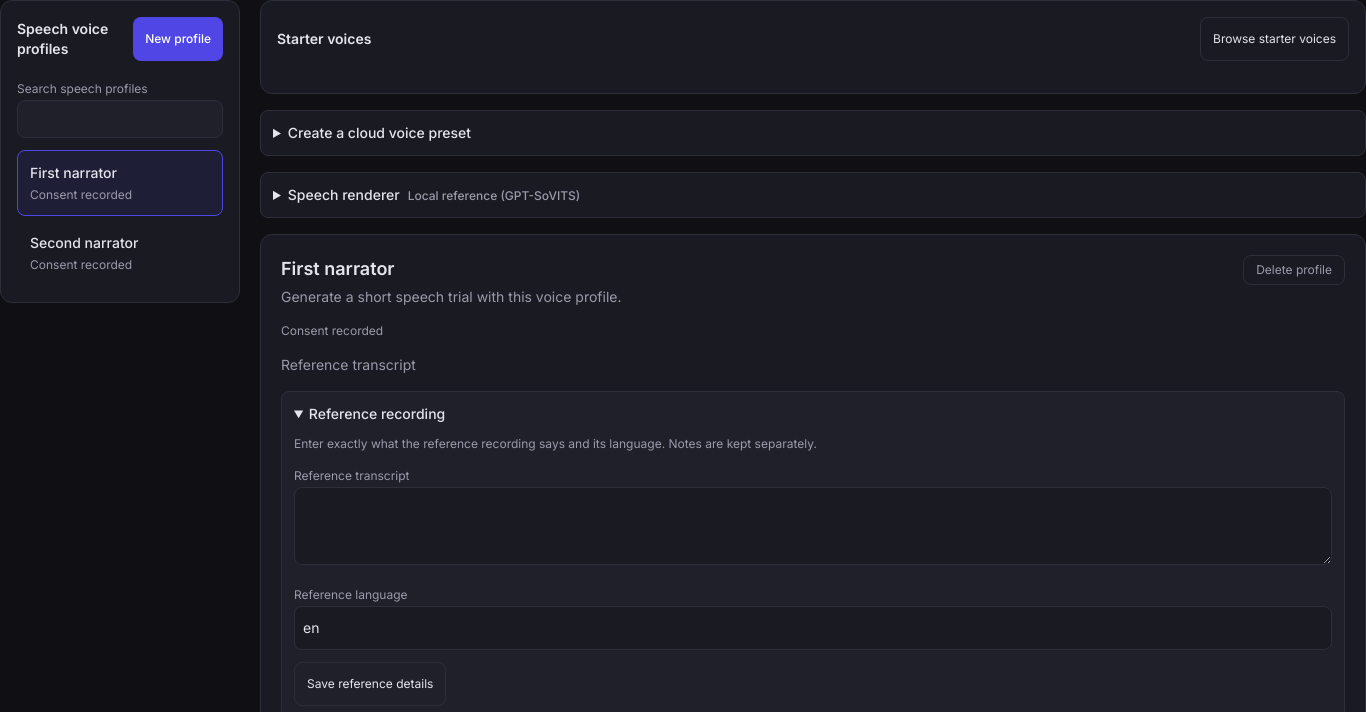
Scenario: preserves newer selection and speech text when an import finishes late
The image size is (1366, 712).
Click the button "Browse starter voices".
click(1275, 39)  # box [1200,17,1349,61]
(page scrolled)
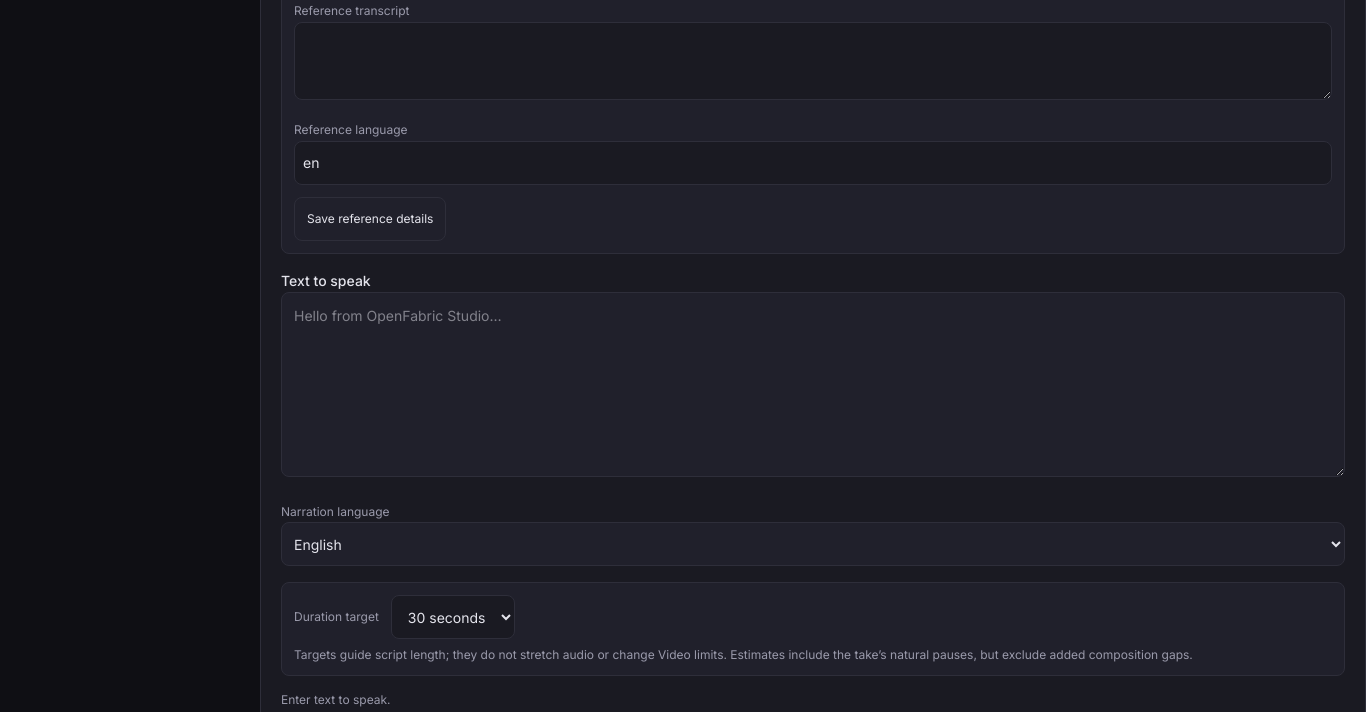
Type "Keep my text" into the text box labelled "Text to speak".
click(813, 385); type("Keep my text")  # box [281,292,1345,477]
(page scrolled)
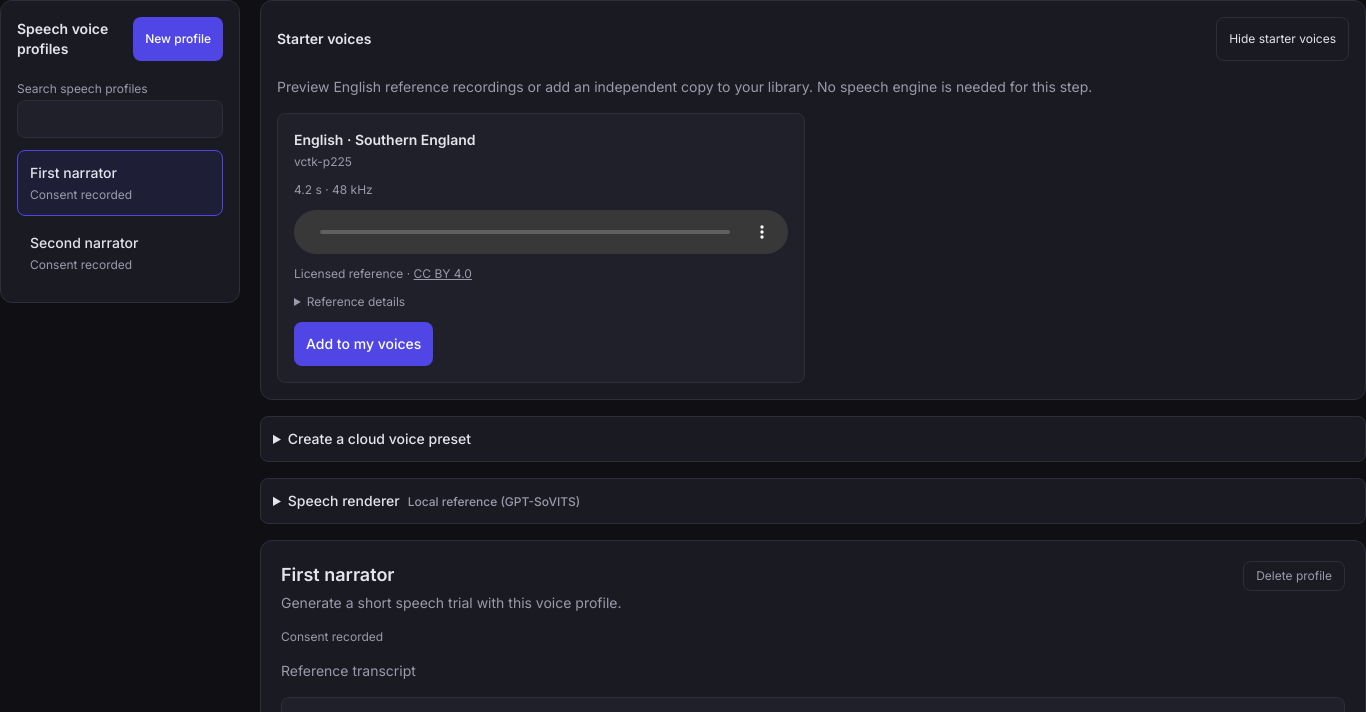
Click the button "Add to my voices".
click(364, 344)  # box [294,322,433,366]
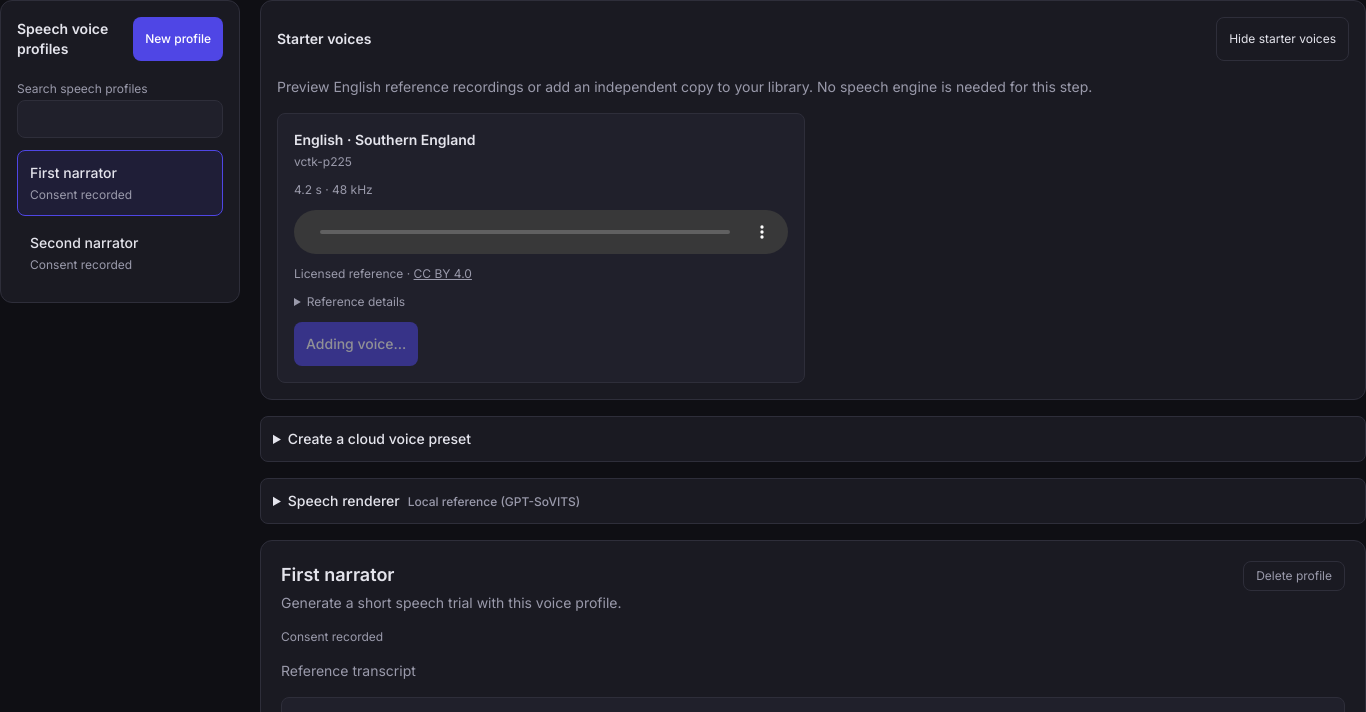
Click the button "Second narrator Consent recorded".
click(120, 252)  # box [17,220,223,286]
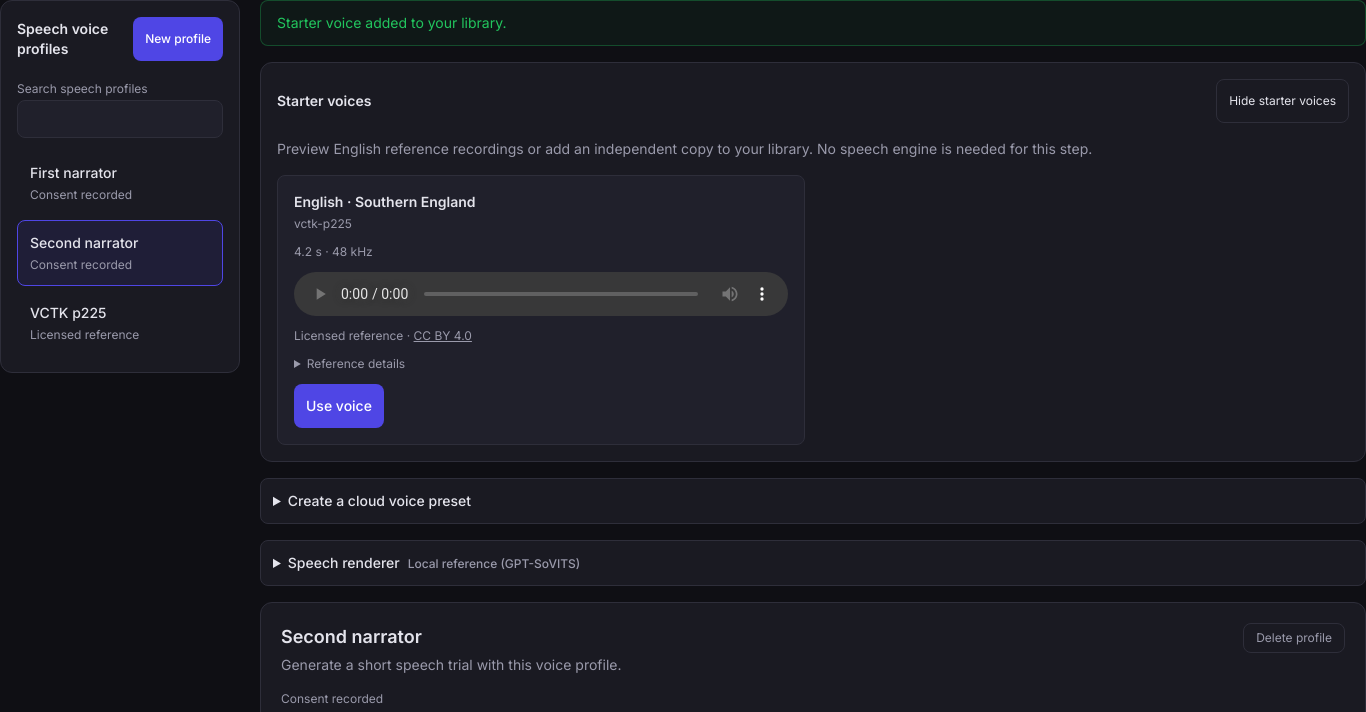
Expected: the button "VCTK p225 Licensed reference" is shown, [17,290,223,356]
